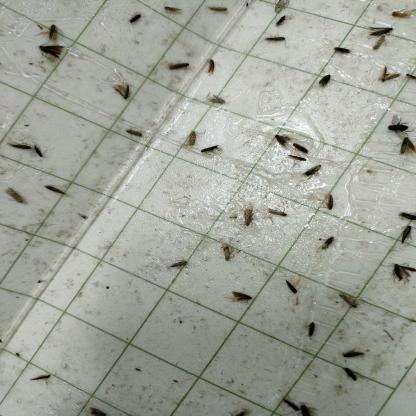prays_oleae: (264, 27, 290, 64), (36, 36, 66, 68), (107, 74, 134, 107), (238, 198, 258, 241), (163, 54, 188, 88), (2, 175, 26, 210), (316, 61, 340, 94), (394, 133, 416, 169), (339, 283, 359, 319), (375, 61, 400, 87), (265, 199, 289, 226), (390, 260, 414, 286), (42, 177, 69, 199), (284, 271, 303, 302), (8, 134, 34, 156), (208, 2, 236, 22), (229, 288, 254, 310), (167, 255, 189, 279), (122, 122, 142, 148), (327, 39, 353, 59), (315, 232, 337, 254), (268, 129, 288, 153), (386, 117, 410, 137), (306, 322, 323, 350), (304, 160, 324, 183), (398, 226, 413, 254), (200, 138, 222, 157), (339, 348, 364, 364), (271, 16, 291, 36), (397, 208, 416, 229), (162, 3, 184, 21), (323, 188, 337, 216), (300, 393, 318, 414), (370, 36, 388, 56), (406, 62, 416, 98), (392, 7, 412, 24), (287, 153, 307, 168), (221, 242, 235, 263), (370, 22, 391, 36), (342, 367, 360, 383), (186, 125, 196, 153), (126, 9, 142, 26), (211, 89, 227, 105), (35, 138, 46, 161), (293, 138, 308, 152), (206, 58, 218, 75)
